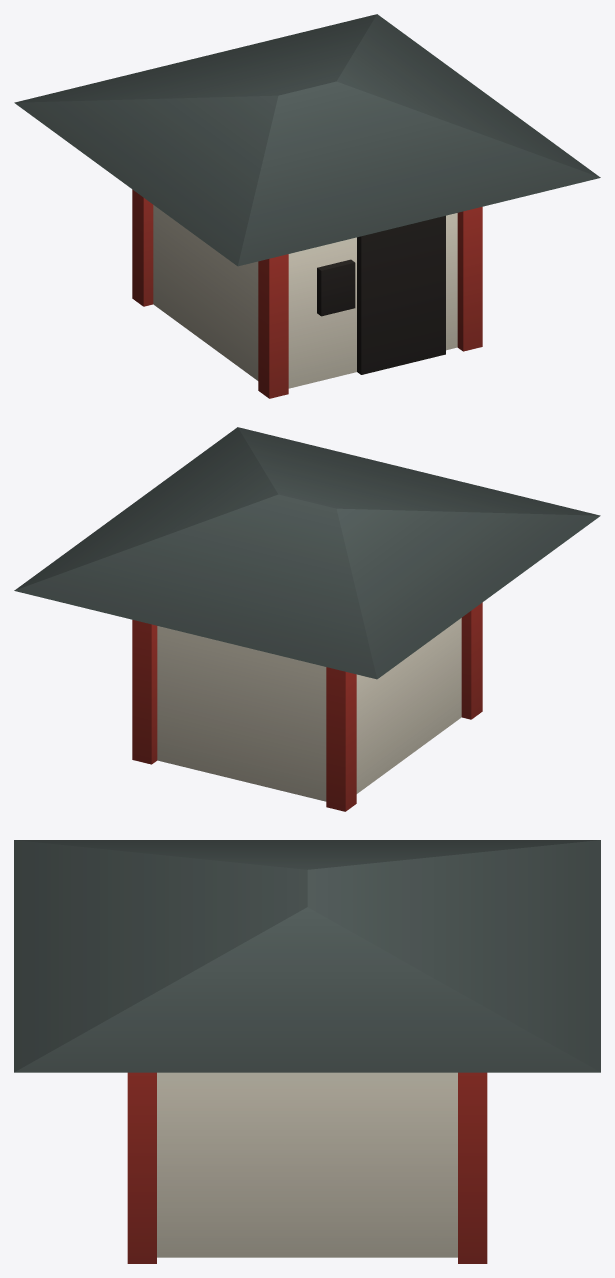
Rendered from house_EA_1a.glb.
The picture shows the model from 3 angles, top to bottom: view 1: azimuth 30°, elevation 25°; view 2: azimuth 150°, elevation 25°; view 3: azimuth 270°, elevation 25°; orthographic projection. The views are drawn at different scales.
Parts seen in each view (by area): view 1: Body; view 2: Body; view 3: Body.
Boxes of the visible parts, bbox=[...] form: Body: bbox=[14, 14, 600, 398]; Body: bbox=[14, 427, 600, 811]; Body: bbox=[14, 840, 600, 1263].
Size of the model in its own units: 1.5 by 0.924 by 1.6.
1 material, 1 textured.
